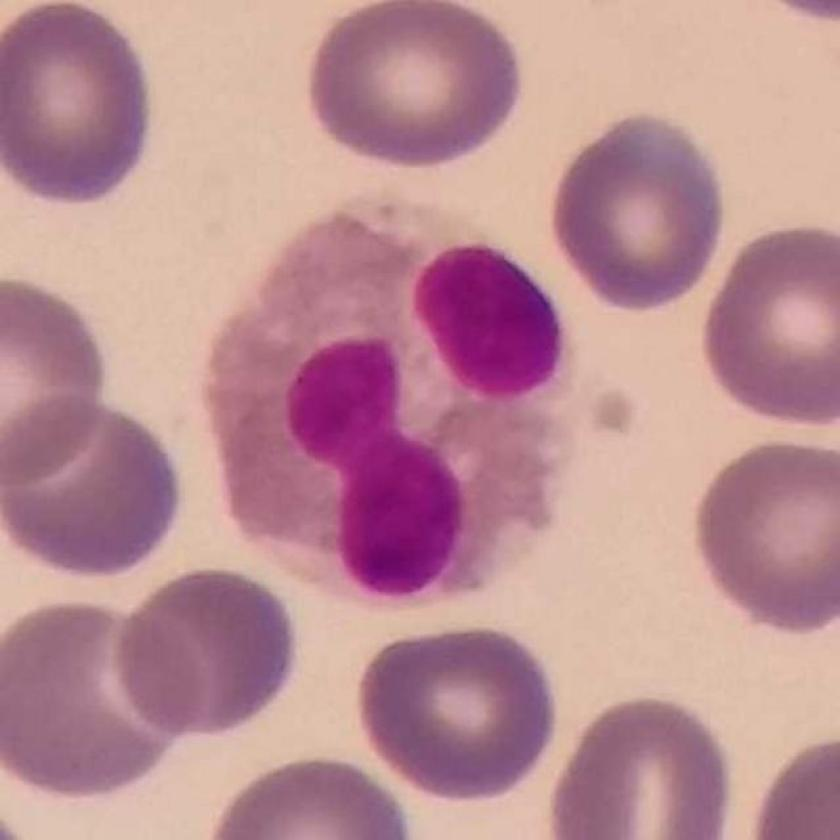eosinophil: (195, 186, 597, 646)
